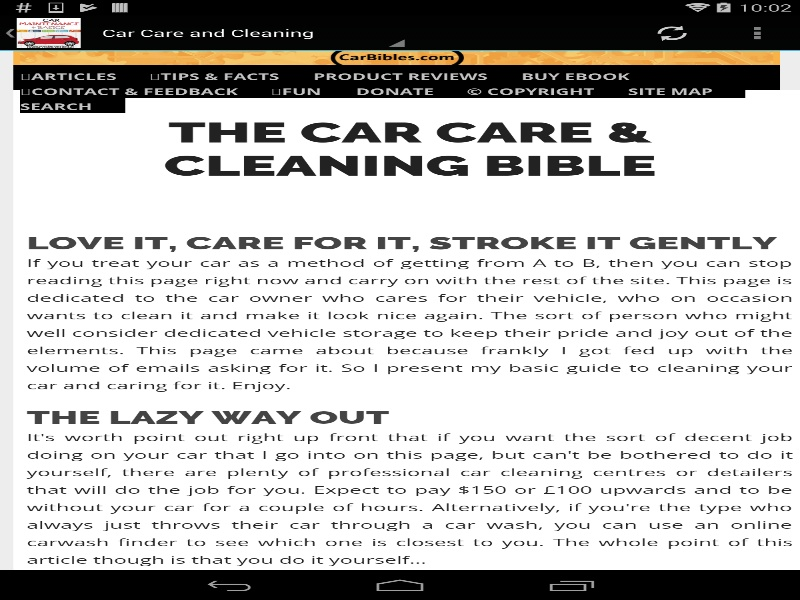Button: (714, 15, 800, 50)
